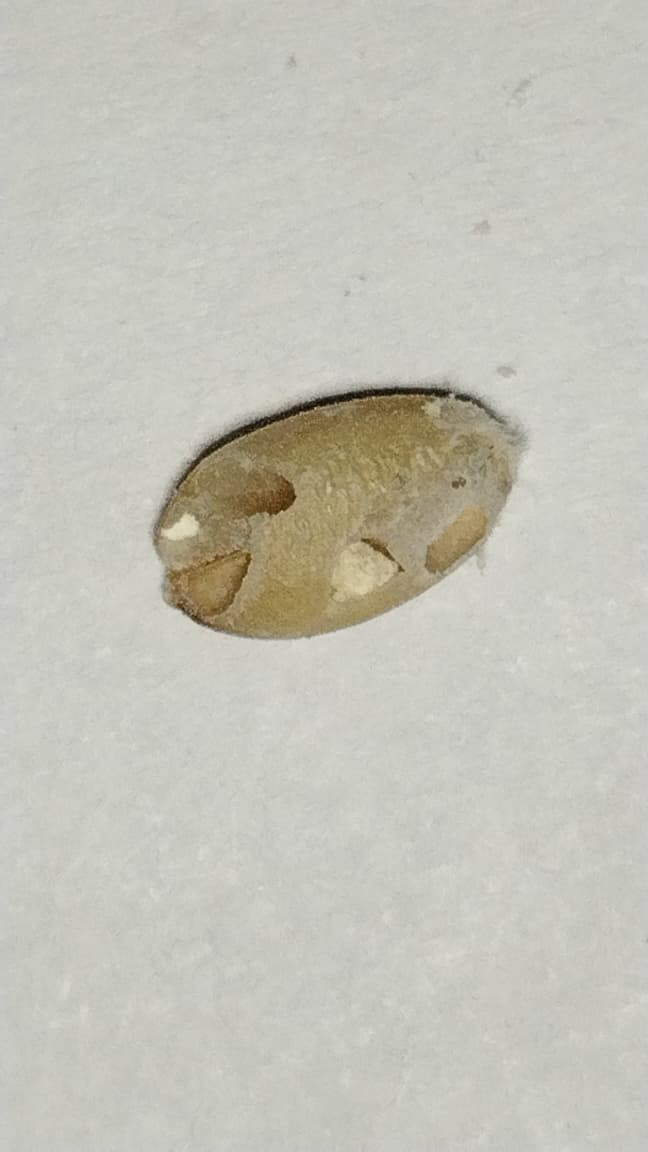damage: (155, 363, 527, 658)
insectdamage: (154, 445, 325, 621), (329, 538, 402, 608), (425, 507, 488, 582)
